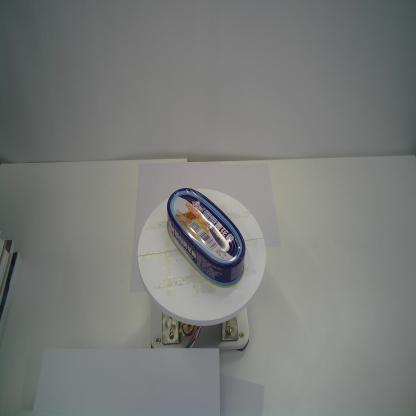Canned Food: (166, 186, 246, 288)
